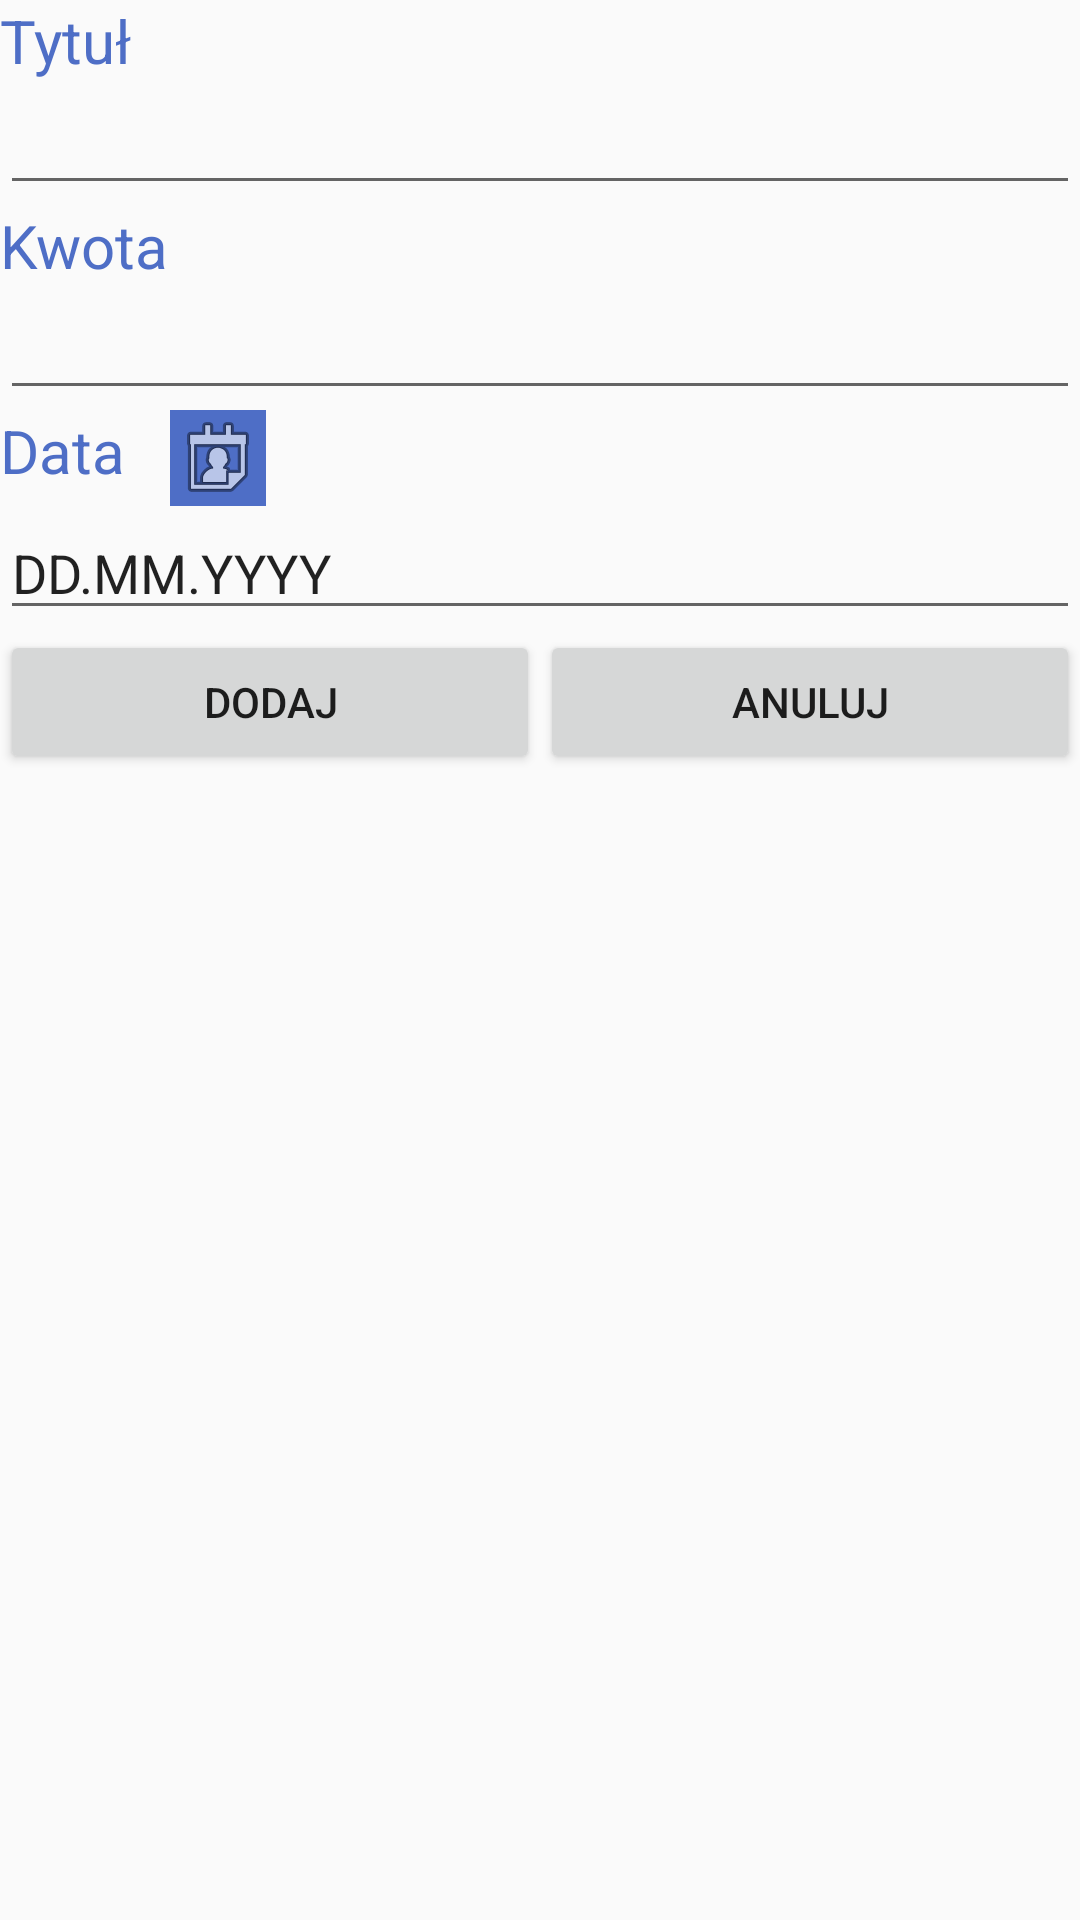

Where to tap for icons on this 1080*1920 app screen, as (x=x, y=y):
calendar: (x=218, y=458)
